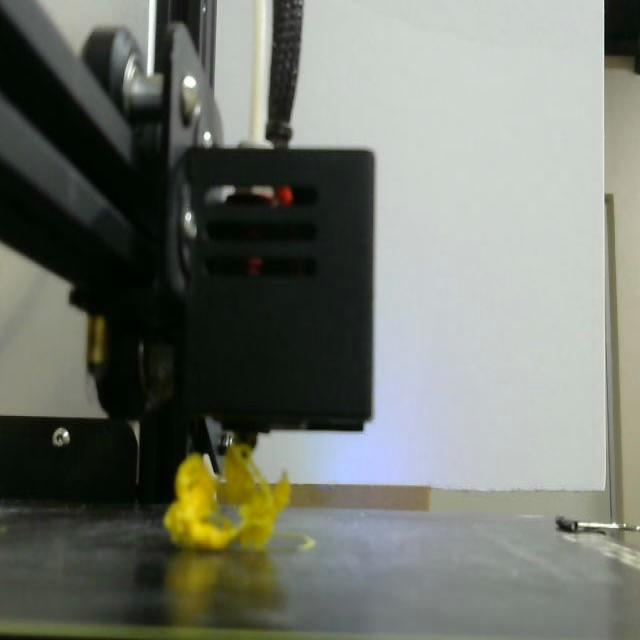spaghetti: (164, 445, 290, 550)
